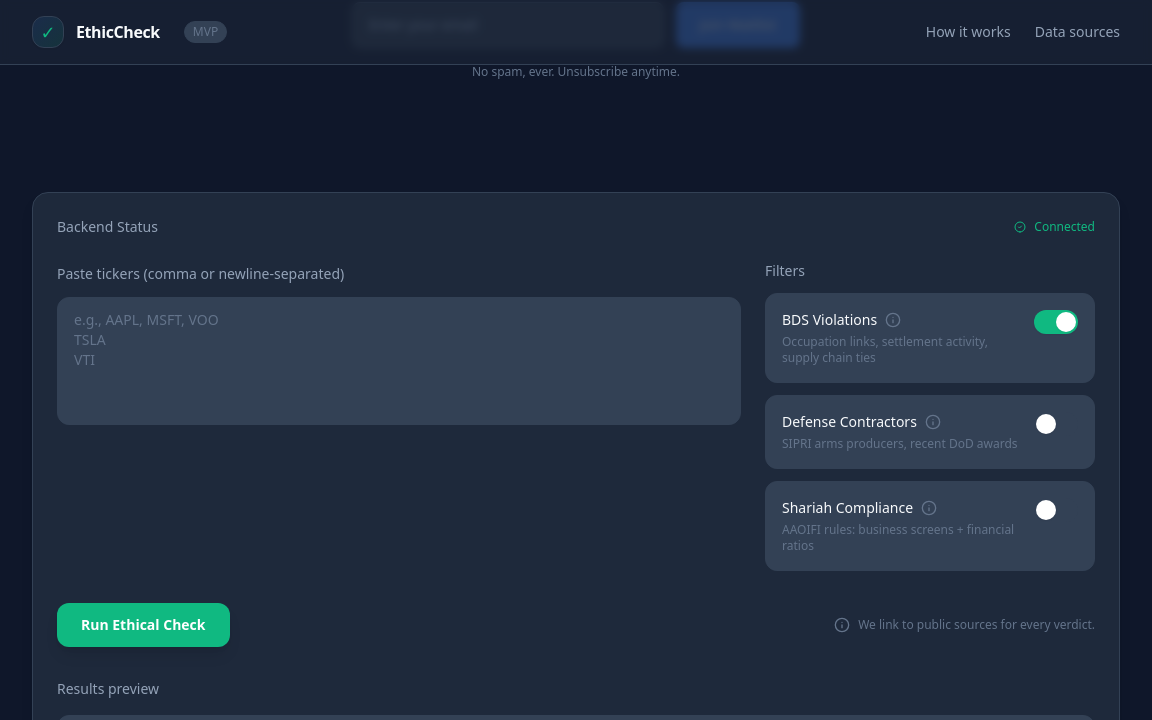
Error Scenarios and Edge Cases › Network and API Errors › handles timeout errors
This screenshot has width=1152, height=720.
(page scrolled)
Type "AAPL" into the text box with placeholder "e.g., AAPL, MSFT, VOO TSLA VTI".
click(399, 361); type("AAPL")  # box [57,297,741,425]
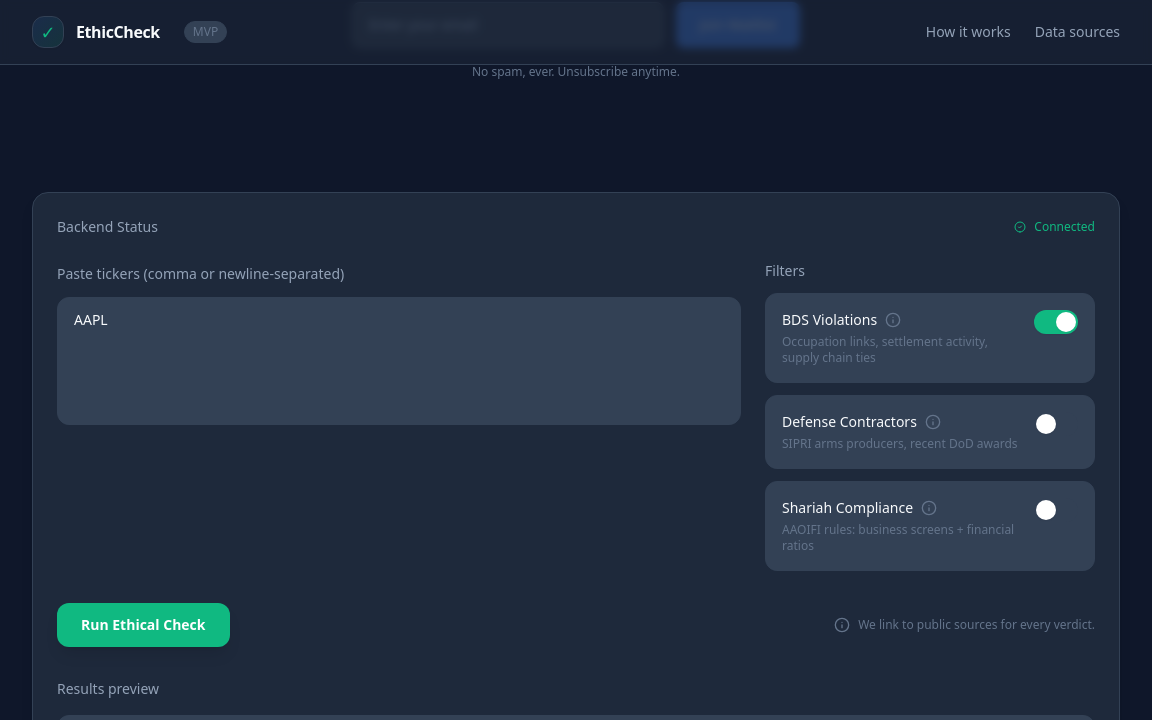
Click the button "Run Ethical Check".
click(143, 625)  # box [57,603,230,647]
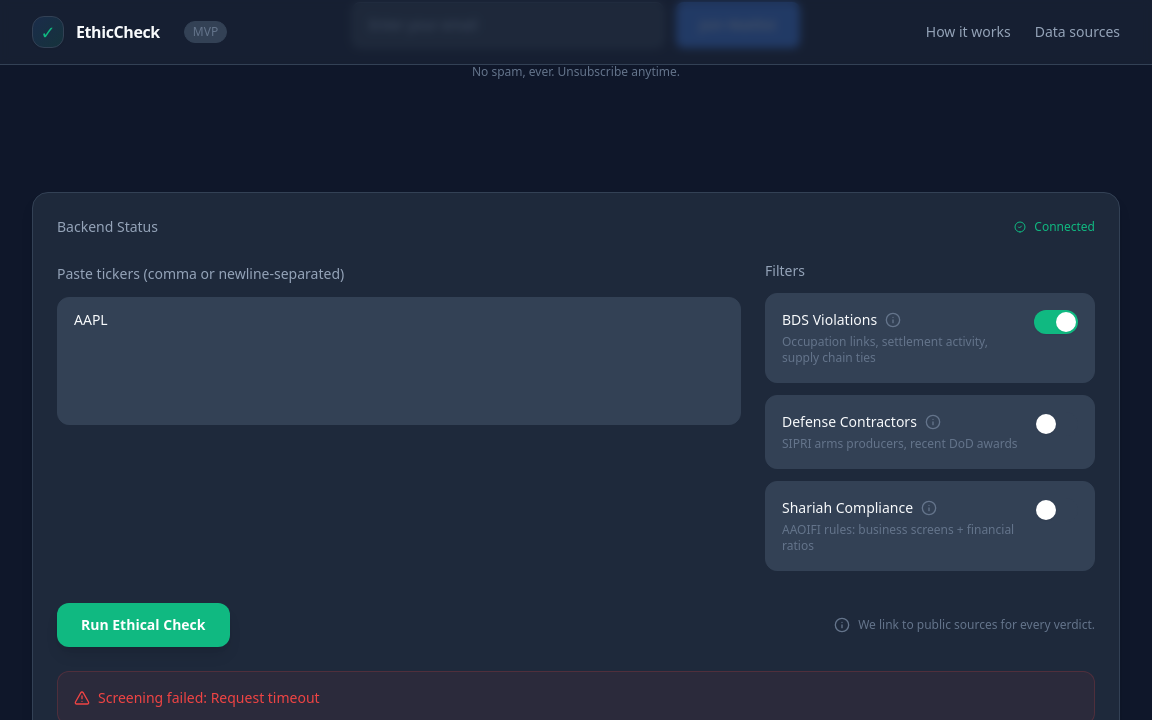
Check: the text "Screening failed: Request timeout" is shown, box [74,688,320,707]
